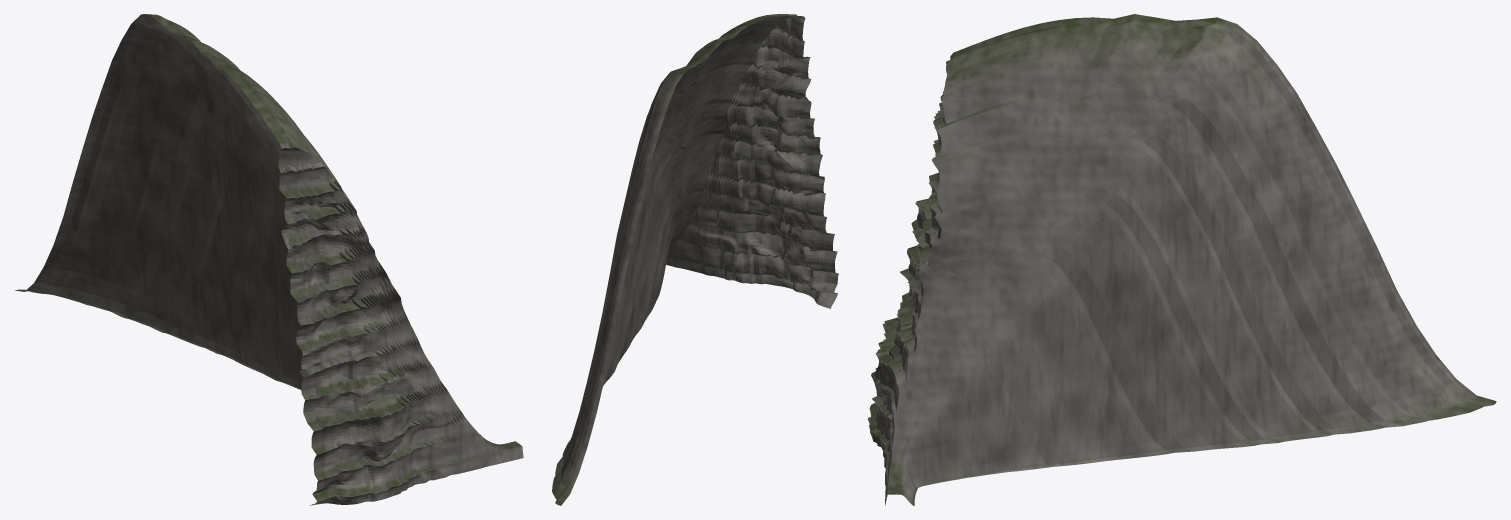
File: SM_cliff_end_r.fbx
3 renders of one model, left to right at view 1: azimuth 30°, elevation 25°; view 2: azimuth 150°, elevation 25°; view 3: azimuth 270°, elevation 25°, orthographic. The views are drawn at different scales.
Visible parts, largest first — view 1: SM_cliff_end_r; view 2: SM_cliff_end_r; view 3: SM_cliff_end_r.
Boxes of the visible parts, x1=… form: SM_cliff_end_r: x1=15, y1=14, x2=523, y2=505; SM_cliff_end_r: x1=552, y1=14, x2=838, y2=505; SM_cliff_end_r: x1=867, y1=14, x2=1496, y2=505.
Bounding box in the file's own units: 16 × 27.54 × 40.56.
